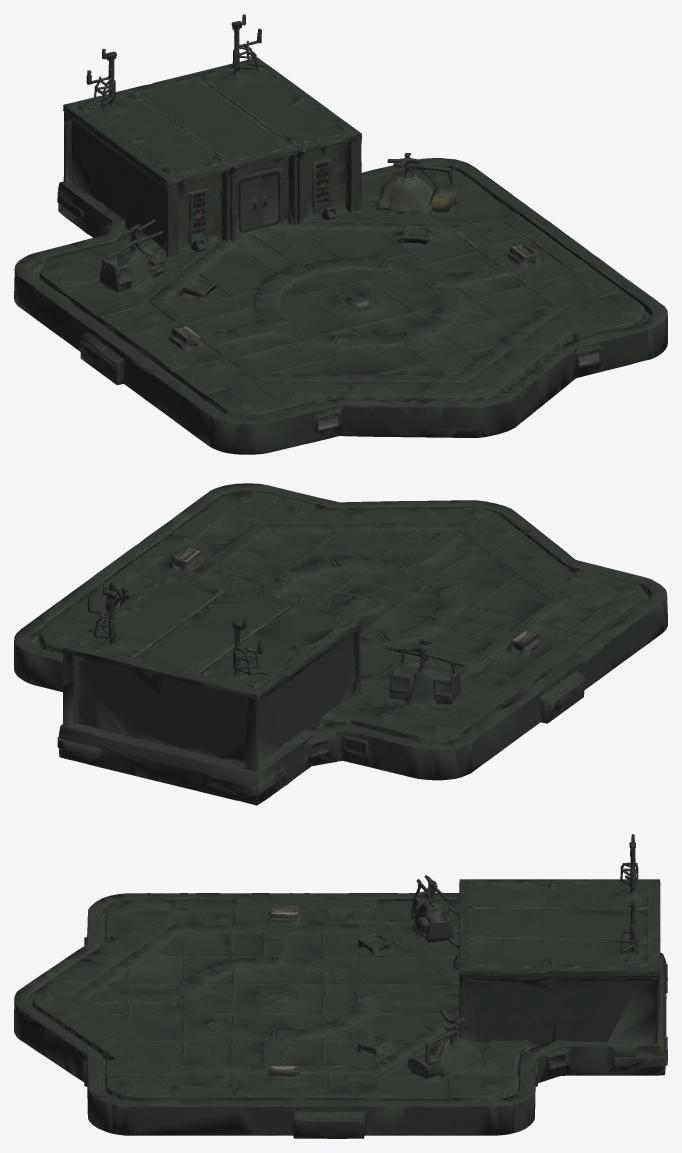
File: airstrip.glb
The picture shows the model from 3 angles, top to bottom: view 1: azimuth 30°, elevation 25°; view 2: azimuth 150°, elevation 25°; view 3: azimuth 270°, elevation 25°; orthographic projection. The views are drawn at different scales.
Parts seen in each view (by area): view 1: Mesh_0; view 2: Mesh_0; view 3: Mesh_0.
Part boxes in pixels (<box>): Mesh_0: <box>14,14,667,454</box>; Mesh_0: <box>14,483,667,805</box>; Mesh_0: <box>14,834,667,1138</box>.
Size of the model in its own units: 1.53 by 0.5197 by 1.9.
1 material, 1 textured.
